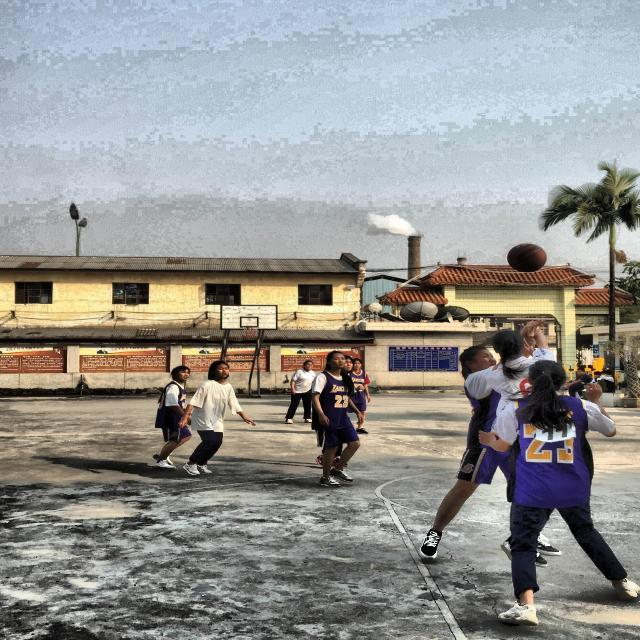board: (507, 243, 547, 272)
